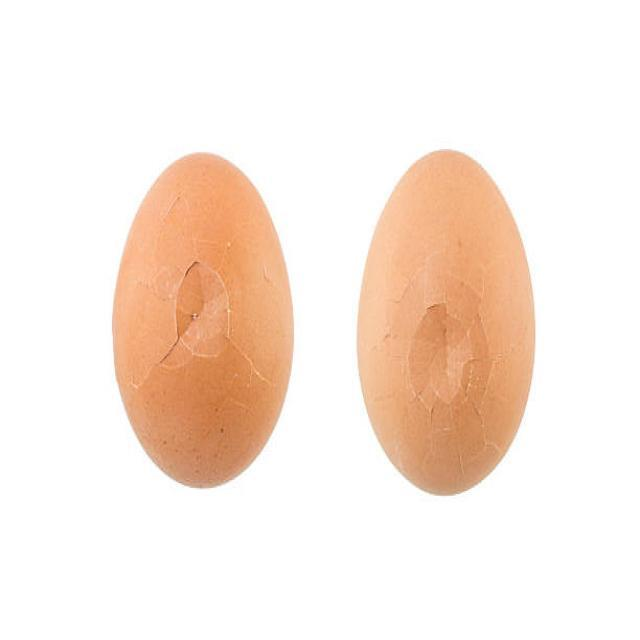biodegradable: (102, 137, 305, 505), (352, 135, 551, 510)
